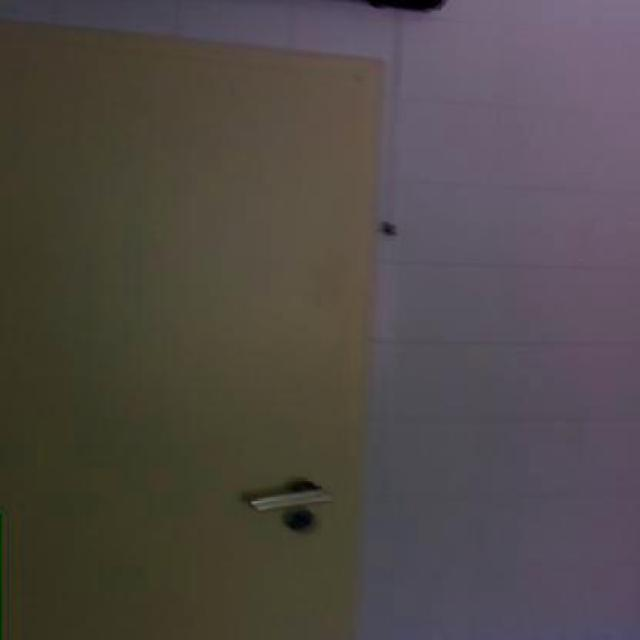door: (0, 12, 385, 638)
